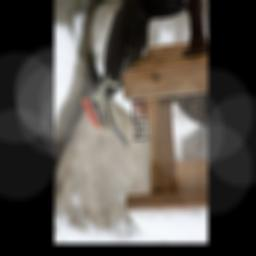Woodpecker: (74, 0, 195, 147)
